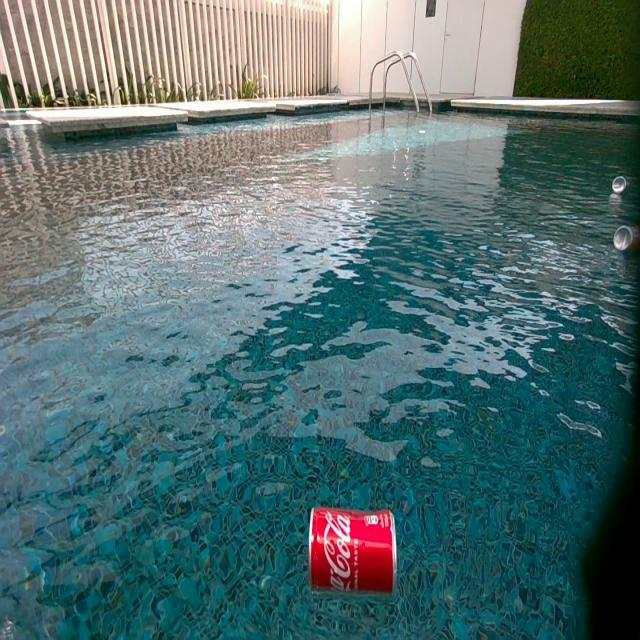Cans: (309, 507, 401, 603), (615, 226, 640, 255), (614, 176, 630, 195)
